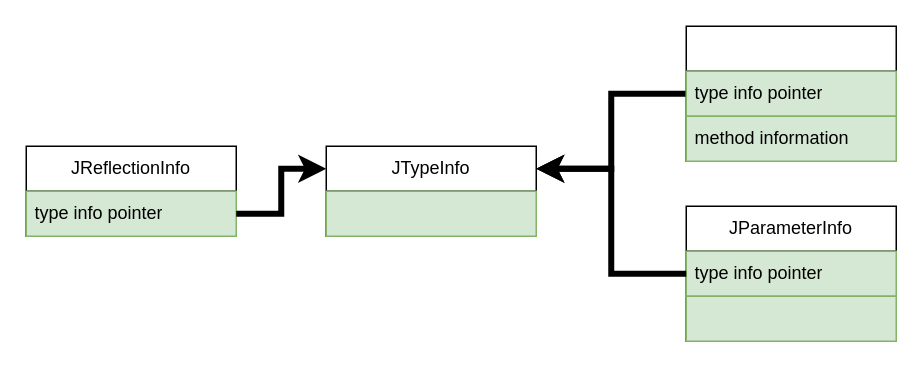
Image size: 923x368. Some labels were removed from this diagram. The shapes that lost their labels are listed below. From the top down, each one's box as (x1, y1, x2, y2) in pixels, then its label:
(685, 25, 896, 161): JMethodInfo
(325, 190, 536, 236): type information
(685, 295, 896, 341): parameter information
